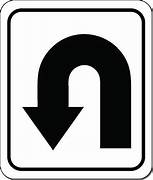back: (18, 23, 134, 158)
